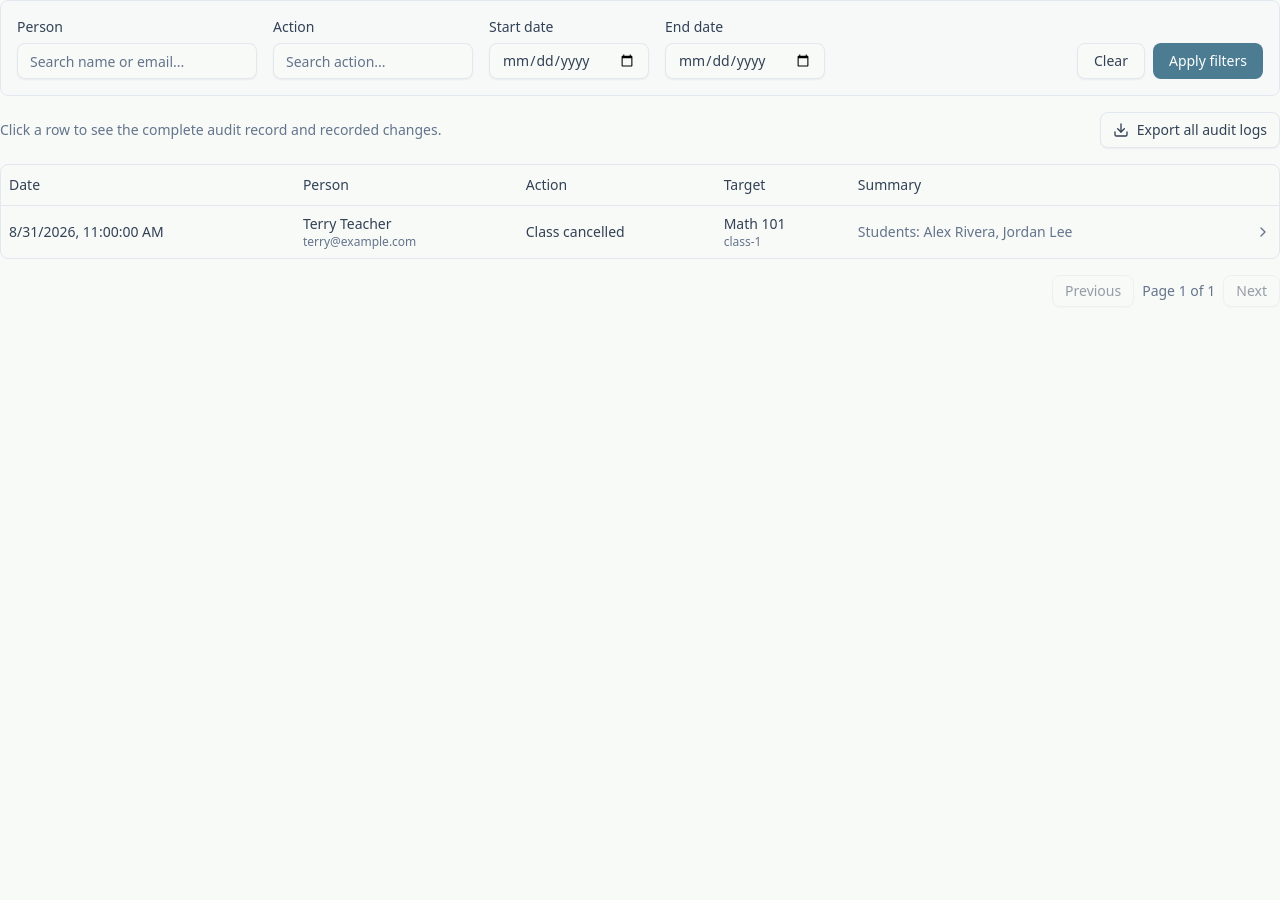
it: AuditLogTable › shows the cancelled class name and enrolled students clearly
Expected: the text "Math 101" is shown, [724,214,786,232]
Expected: the text "Students: Alex Rivera, Jordan Lee" is shown, [850,205,1247,258]
Click the row named "View audit details for Class cancelled by Terry Teacher": click(86, 231) [1,205,1279,258]
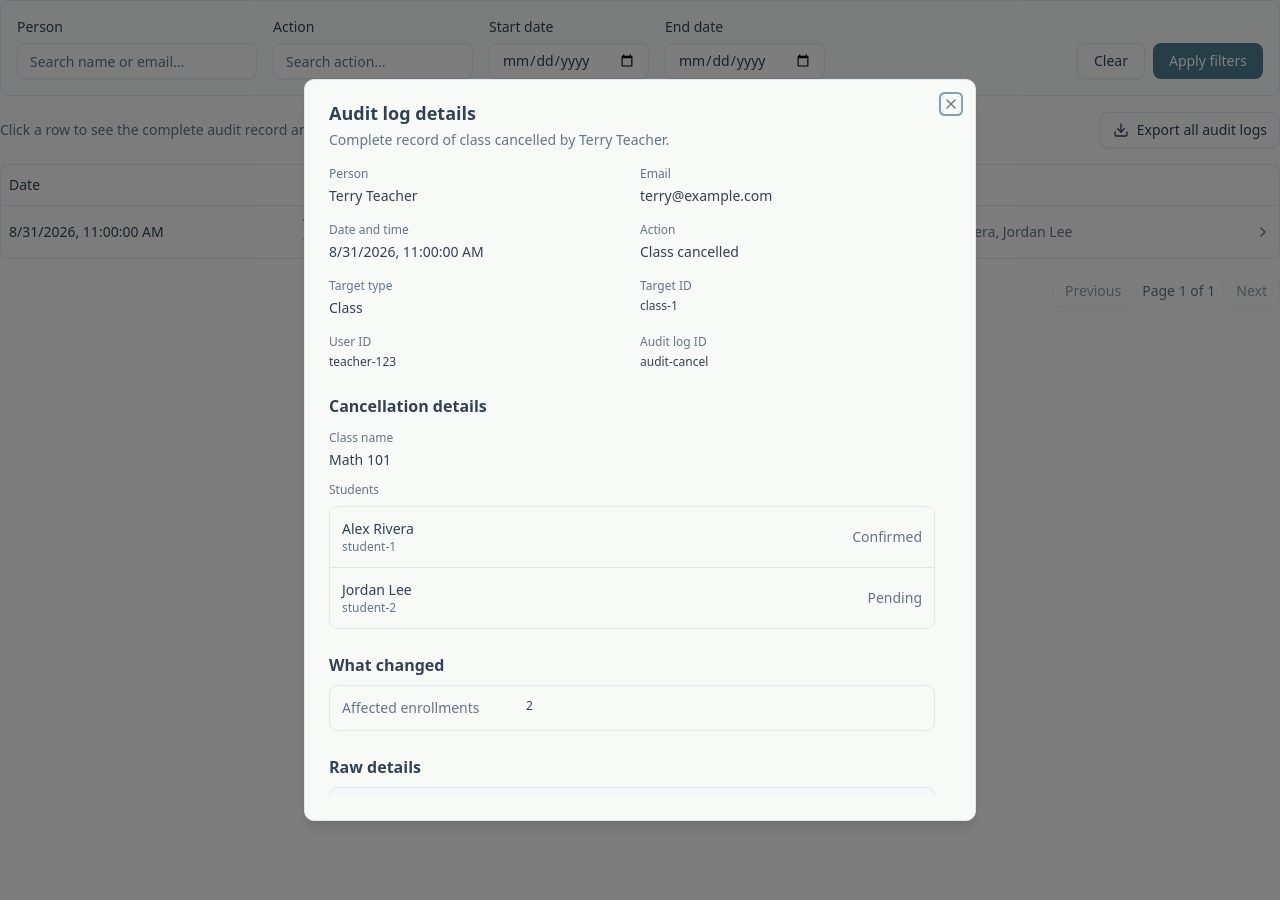
Now the text "Class name" is shown, box [329,429,393,446]
Now the text "Math 101" is shown, box [329,450,391,469]
Now the heading "Students" is shown, box [329,481,379,498]
